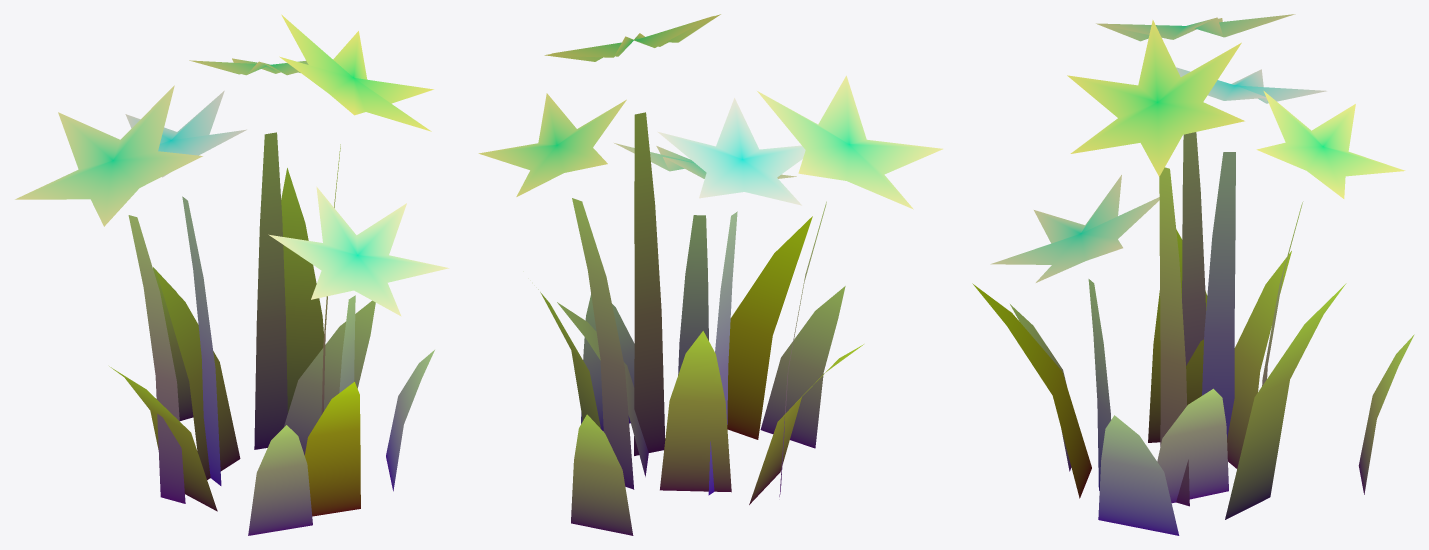
Rendered from flower_grass_a.glb.
The picture shows the model from 3 angles, left to right: view 1: azimuth 30°, elevation 25°; view 2: azimuth 150°, elevation 25°; view 3: azimuth 270°, elevation 25°; orthographic projection. The views are drawn at different scales.
Visible parts, largest first — view 1: flower_grass_a; view 2: flower_grass_a; view 3: flower_grass_a.
Boxes of the visible parts, x1,y1,x2,y2 form: flower_grass_a: (15, 14, 449, 535); flower_grass_a: (478, 14, 942, 535); flower_grass_a: (972, 14, 1414, 535).
Size of the model in its own units: 0.278 by 0.2984 by 0.2627.
